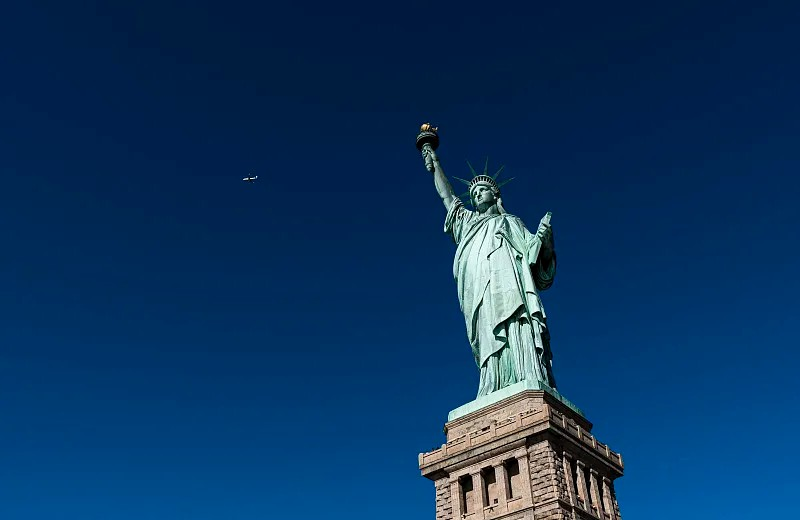SL: (414, 119, 625, 520)
